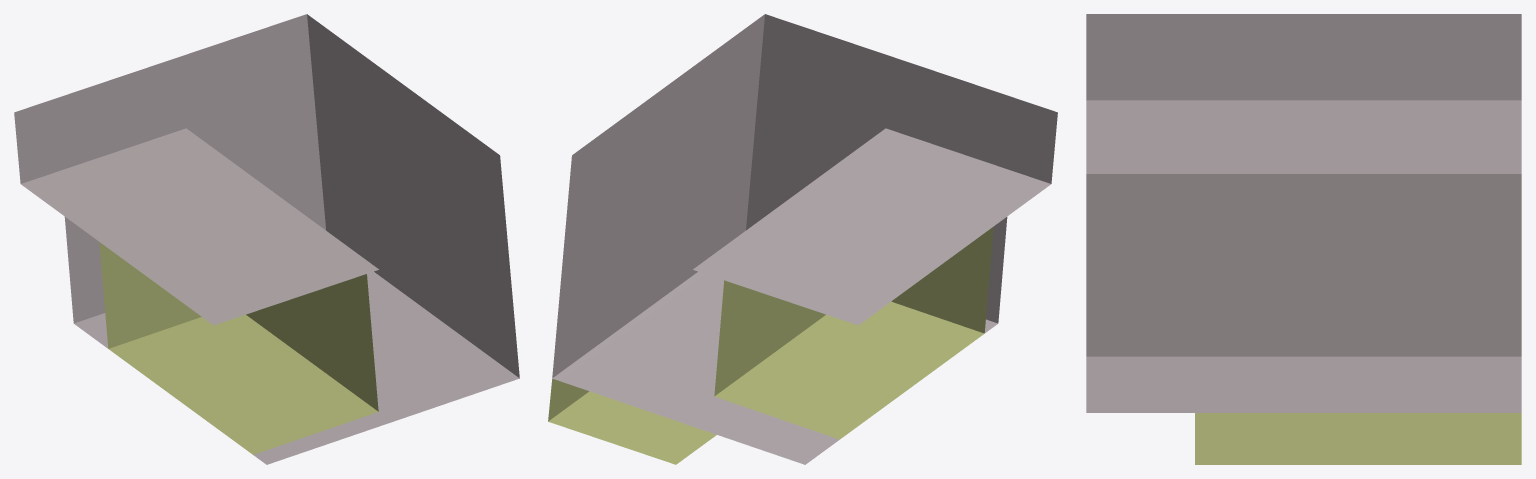
3 renders of one model, left to right at view 1: azimuth 30°, elevation 25°; view 2: azimuth 150°, elevation 25°; view 3: azimuth 270°, elevation 25°, orthographic. The views are drawn at different scales.
Visible parts, largest first — view 1: 0_2_3_3_3_1_0_2_0_1_0; view 2: 0_2_3_3_3_1_0_2_0_1_0; view 3: 0_2_3_3_3_1_0_2_0_1_0.
Part boxes in pixels (box(x1,y1,x2,y2)): 0_2_3_3_3_1_0_2_0_1_0: box(14, 14, 519, 464); 0_2_3_3_3_1_0_2_0_1_0: box(548, 14, 1057, 464); 0_2_3_3_3_1_0_2_0_1_0: box(1086, 14, 1521, 464).
Size of the model in its own units: 11.37 by 9.74 by 12.
